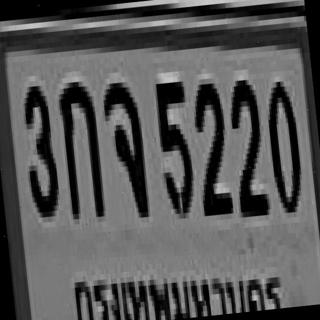A01: (54, 75, 104, 215)
A08: (99, 76, 148, 215)
N00: (262, 75, 302, 209)
N02: (188, 75, 231, 214), (224, 74, 267, 213)
N03: (16, 80, 59, 213)
N05: (152, 76, 194, 215)
